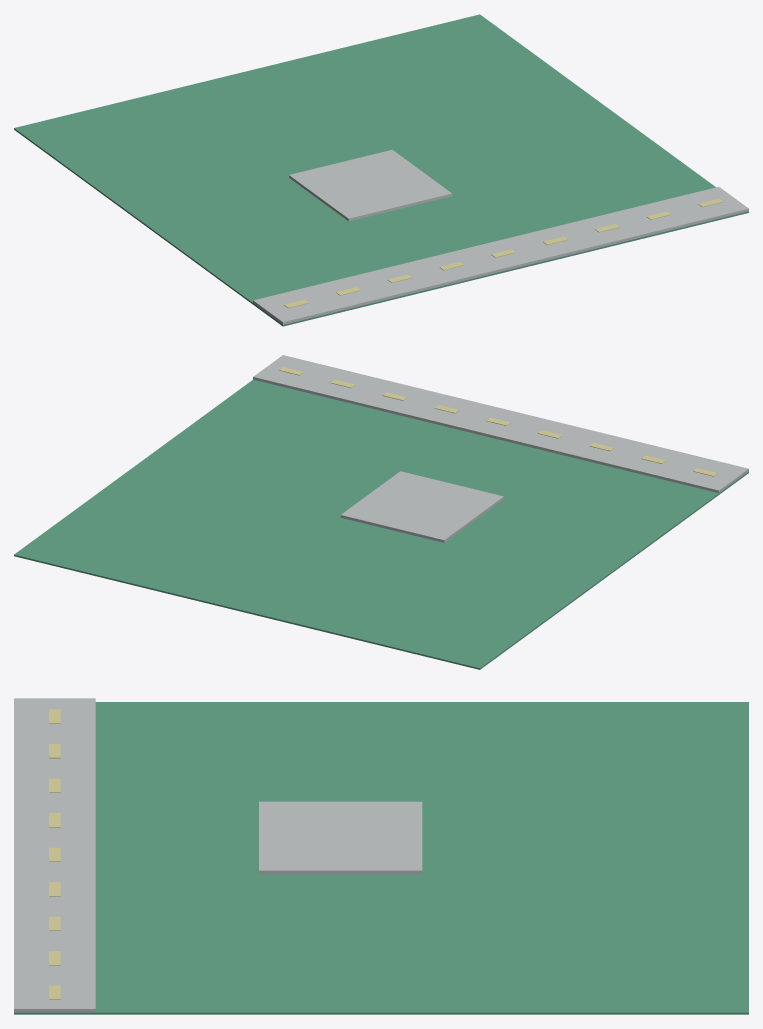
The model's file is stage_01.glb.
3 views of the same model, one above another, from view 1: azimuth 30°, elevation 25°; view 2: azimuth 150°, elevation 25°; view 3: azimuth 270°, elevation 25° (orthographic). The views are drawn at different scales.
Visible parts, largest first — view 1: geometry_0; view 2: geometry_0; view 3: geometry_0.
Boxes of the visible parts, x1,y1,x2,y2 form: geometry_0: (14, 14, 748, 326); geometry_0: (14, 355, 748, 669); geometry_0: (14, 698, 748, 1014).
Size of the model in its own units: 9 by 0.091 by 9.
